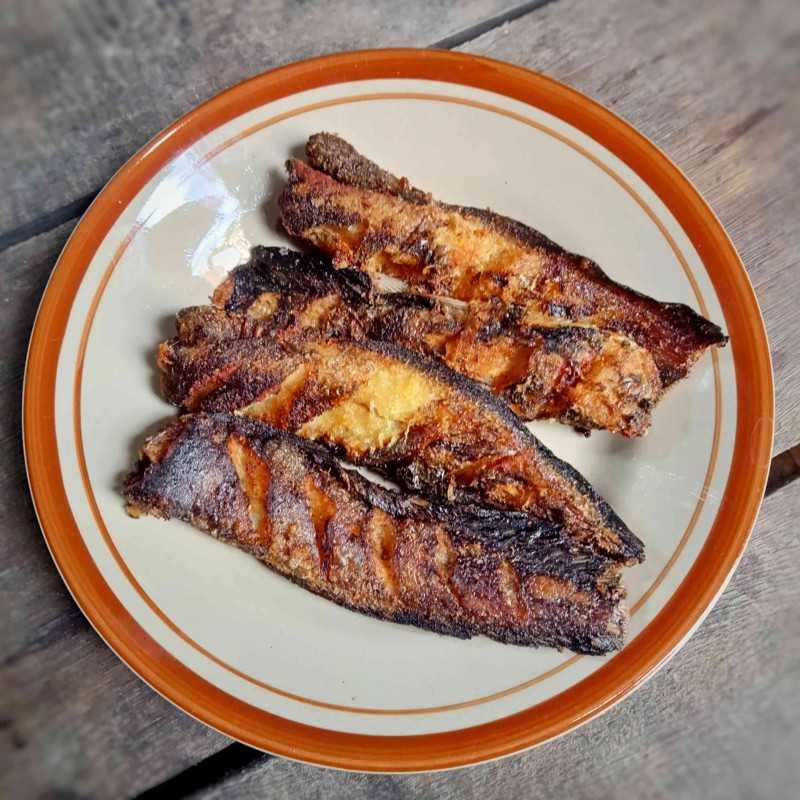pecel_lele: (132, 296, 647, 602), (125, 410, 630, 687), (206, 237, 656, 447)
